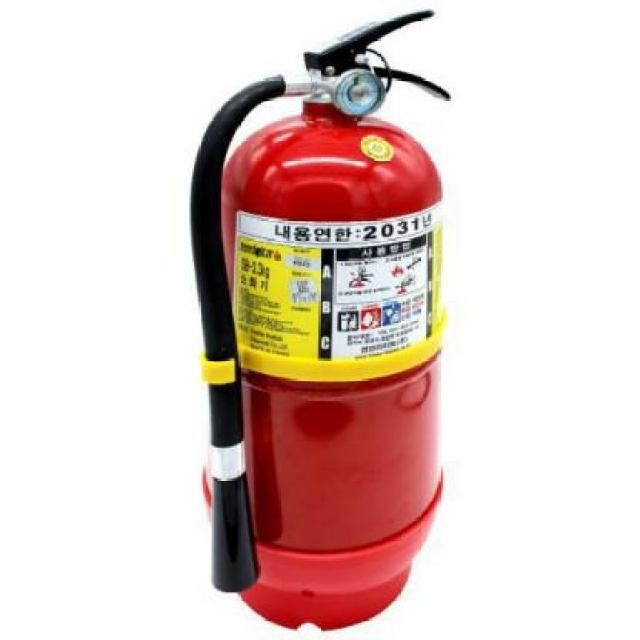fire extinguisher: (190, 8, 452, 628)
